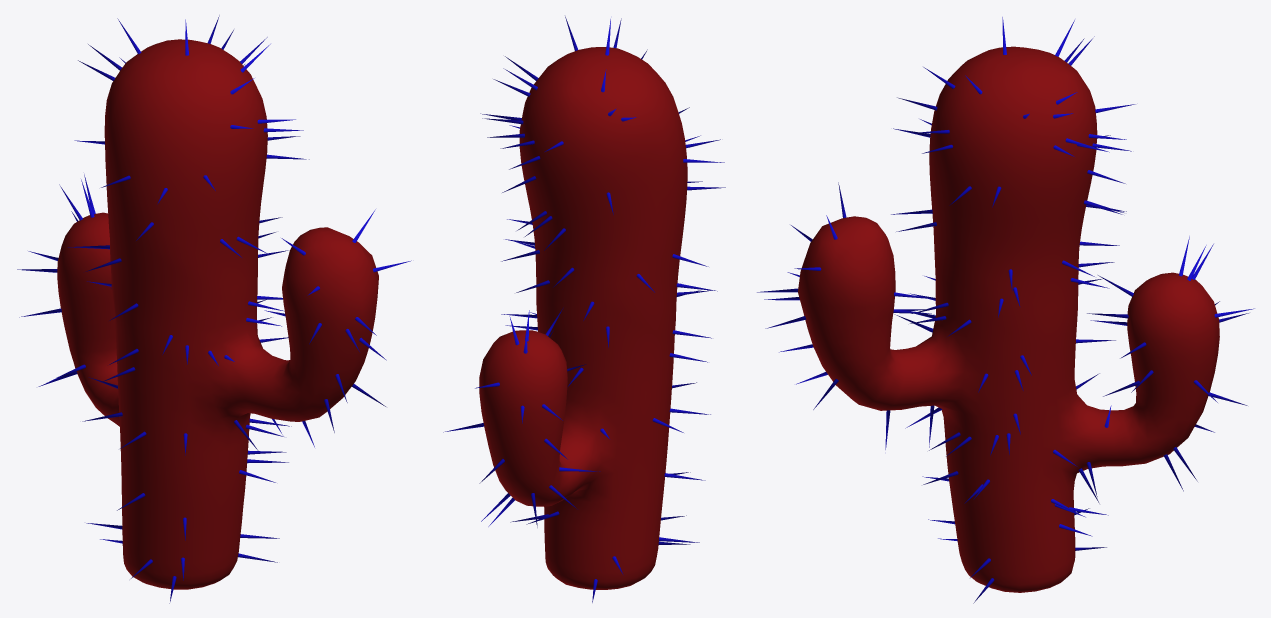
The model's file is cactus_MOD_v01.fbx.
3 renders of one model, left to right at view 1: azimuth 30°, elevation 25°; view 2: azimuth 150°, elevation 25°; view 3: azimuth 270°, elevation 25°, orthographic.
Visible parts, largest first — view 1: Circle.002, Cone.001; view 2: Circle.002, Cone.001; view 3: Circle.002, Cone.001.
Boxes of the visible parts, bbox=[...] form: Circle.002: bbox=[57, 39, 378, 589]; Cone.001: bbox=[17, 15, 411, 603]; Circle.002: bbox=[479, 47, 687, 589]; Cone.001: bbox=[443, 16, 725, 602]; Circle.002: bbox=[798, 46, 1219, 592]; Cone.001: bbox=[757, 17, 1254, 603].
Bounding box in the file's own units: 370 × 883 × 718.
